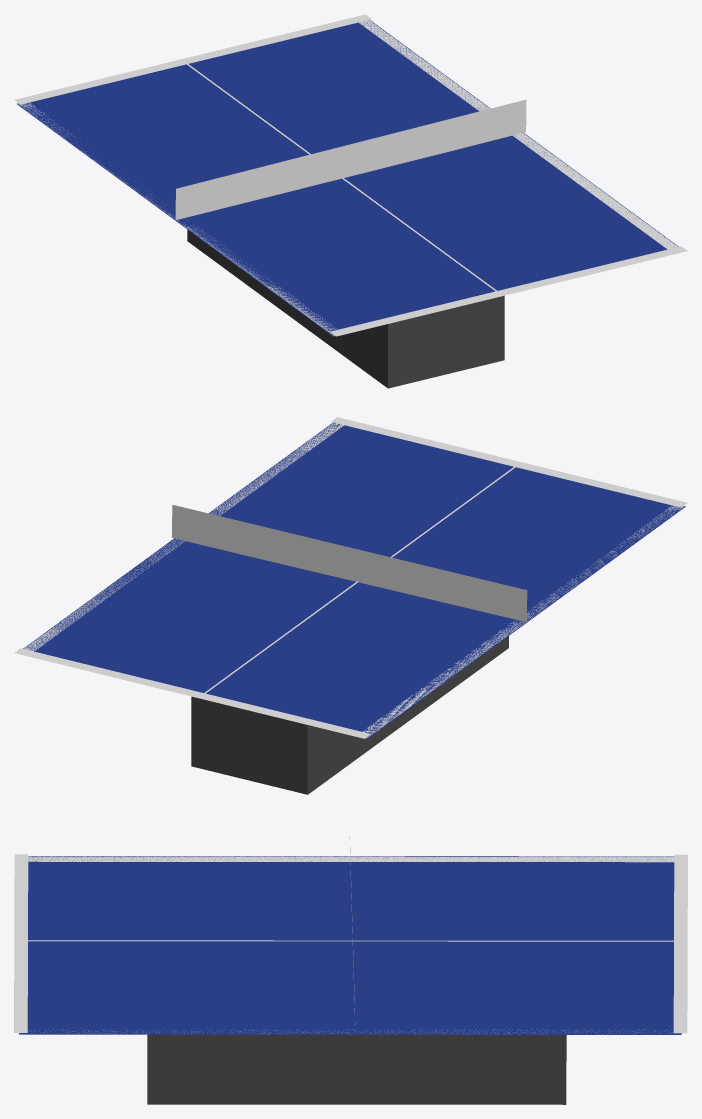
File: Table.glb
The picture shows the model from 3 angles, top to bottom: view 1: azimuth 30°, elevation 25°; view 2: azimuth 150°, elevation 25°; view 3: azimuth 270°, elevation 25°; orthographic projection. The views are drawn at different scales.
Visible parts, largest first — view 1: Plan, Cube, Grille, Plan.001, Plan.004, Plan.003, Plan.002, Plan.005; view 2: Plan, Cube, Grille, Plan.001, Plan.003, Plan.004, Plan.002, Plan.005; view 3: Plan, Cube, Plan.002, Plan.004, Plan.003, Plan.005.
Part boxes in pixels (<box>): Plan: <box>16,20,678,336</box>; Cube: <box>187,229,504,388</box>; Grille: <box>175,99,526,219</box>; Plan.001: <box>359,20,677,249</box>; Plan.004: <box>14,14,371,104</box>; Plan.003: <box>330,246,687,336</box>; Plan.002: <box>17,102,336,335</box>; Plan.005: <box>187,64,496,291</box>; Plan: <box>23,422,685,738</box>; Cube: <box>191,636,508,794</box>; Grille: <box>172,504,527,621</box>; Plan.001: <box>24,423,343,651</box>; Plan.003: <box>331,417,687,507</box>; Plan.004: <box>14,648,370,738</box>; Plan.002: <box>363,506,684,738</box>; Plan.005: <box>204,467,515,693</box>; Plan: <box>19,856,681,1034</box>; Cube: <box>147,1034,566,1104</box>; Plan.002: <box>28,856,674,862</box>; Plan.004: <box>673,854,687,1033</box>; Plan.003: <box>14,854,28,1032</box>; Plan.005: <box>28,940,673,941</box>.
Size of the model in its own units: 6.07 by 2.59 by 9.6.
